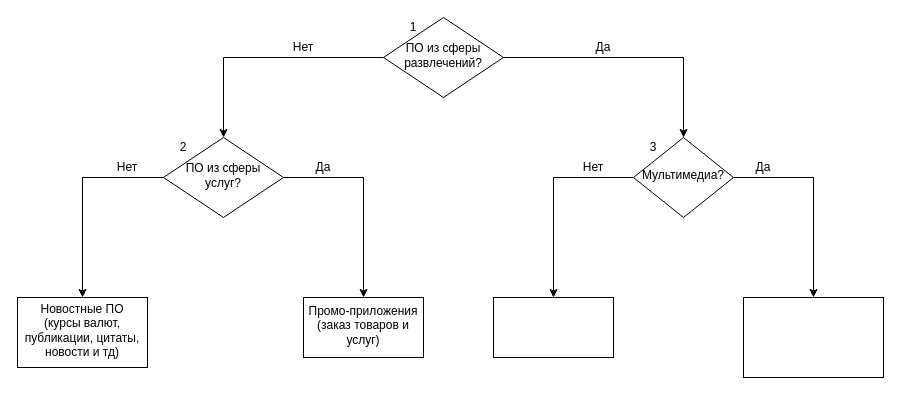
This 901x395 diagram has some shape labels left out. The shapes that lost their labels are listed below. From the top down, each one's centre as x and y in pixels, then its label:
At [553,327]: "Игры".
At [813,337]: "Контентные ПО (социальные сети, видеохостинги, стриминговые сервисы и тд)".
